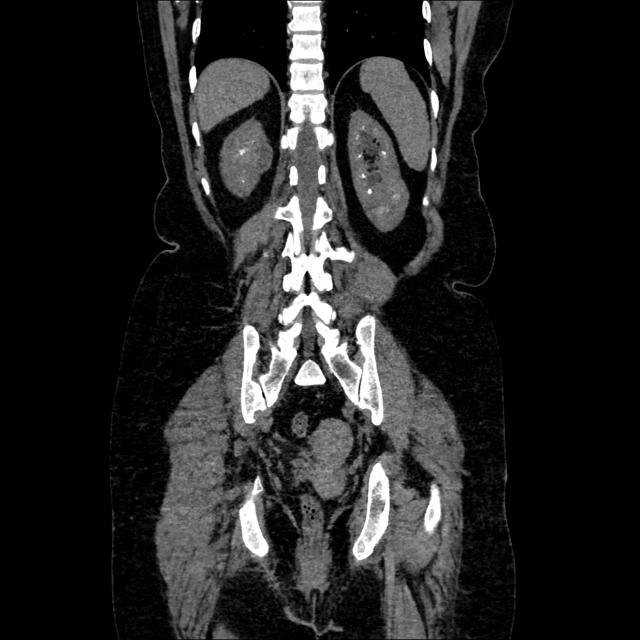kidney: (347, 107, 412, 235), (217, 114, 276, 199)
stone: (238, 145, 248, 158), (366, 187, 374, 195), (379, 150, 388, 156), (361, 172, 367, 180), (241, 177, 247, 184), (357, 153, 363, 159), (356, 134, 360, 140)
